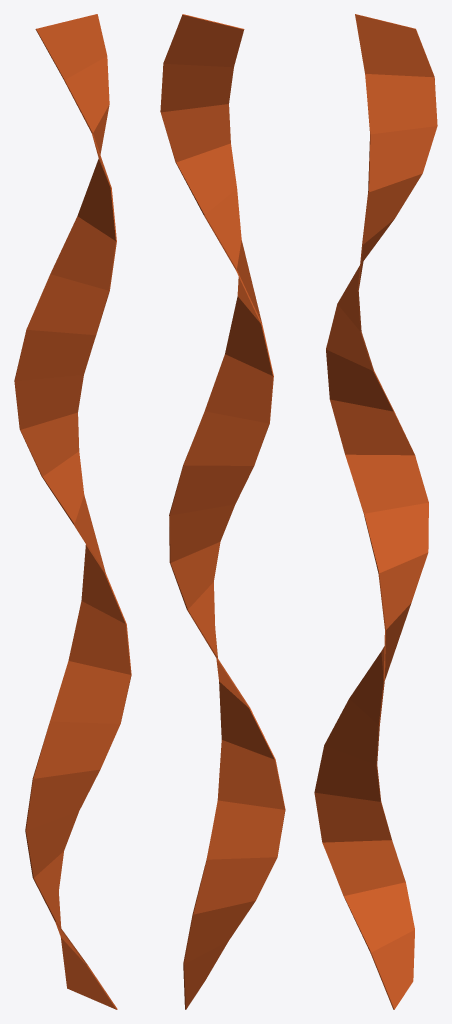
Rendered from party_streamer_orange.glb.
The picture shows the model from 3 angles, left to right: view 1: azimuth 30°, elevation 25°; view 2: azimuth 150°, elevation 25°; view 3: azimuth 330°, elevation 25°; orthographic projection.
Parts seen in each view (by area): view 1: party_streamer_orange_body; view 2: party_streamer_orange_body; view 3: party_streamer_orange_body.
Boxes of the visible parts, <box> form: party_streamer_orange_body: <box>14,14,131,1009</box>; party_streamer_orange_body: <box>160,14,285,1009</box>; party_streamer_orange_body: <box>314,14,437,1009</box>.
Size of the model in its own units: 0.0781 by 0.7001 by 0.07.
1 material, 1 textured.
